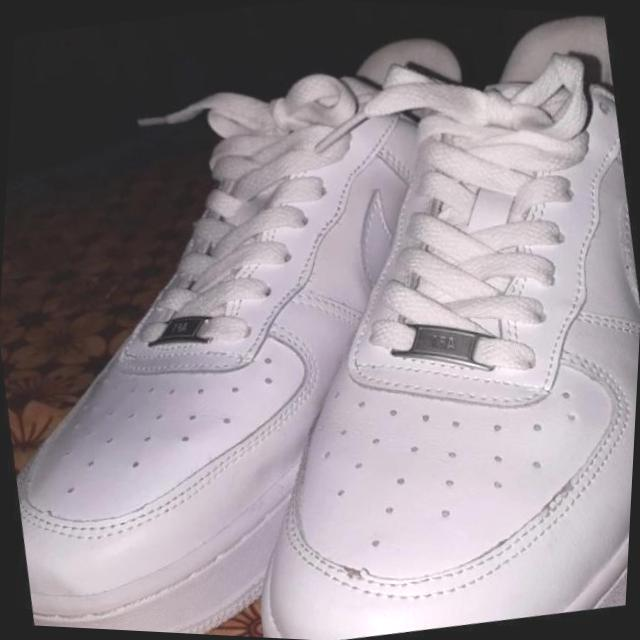nike_fake_airforce: (0, 5, 563, 640), (167, 0, 640, 640)
